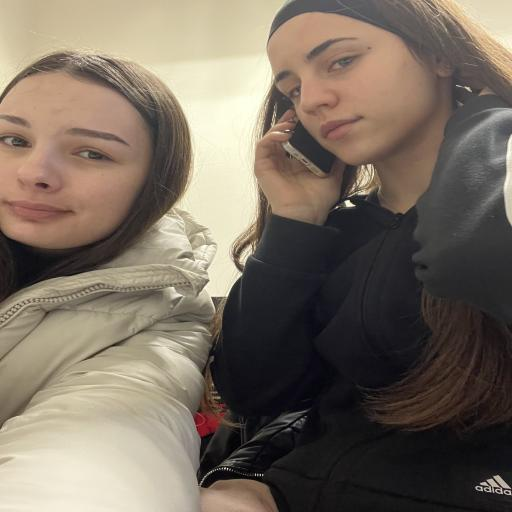marija: (8, 34, 226, 289)
masa: (262, 0, 509, 218)
